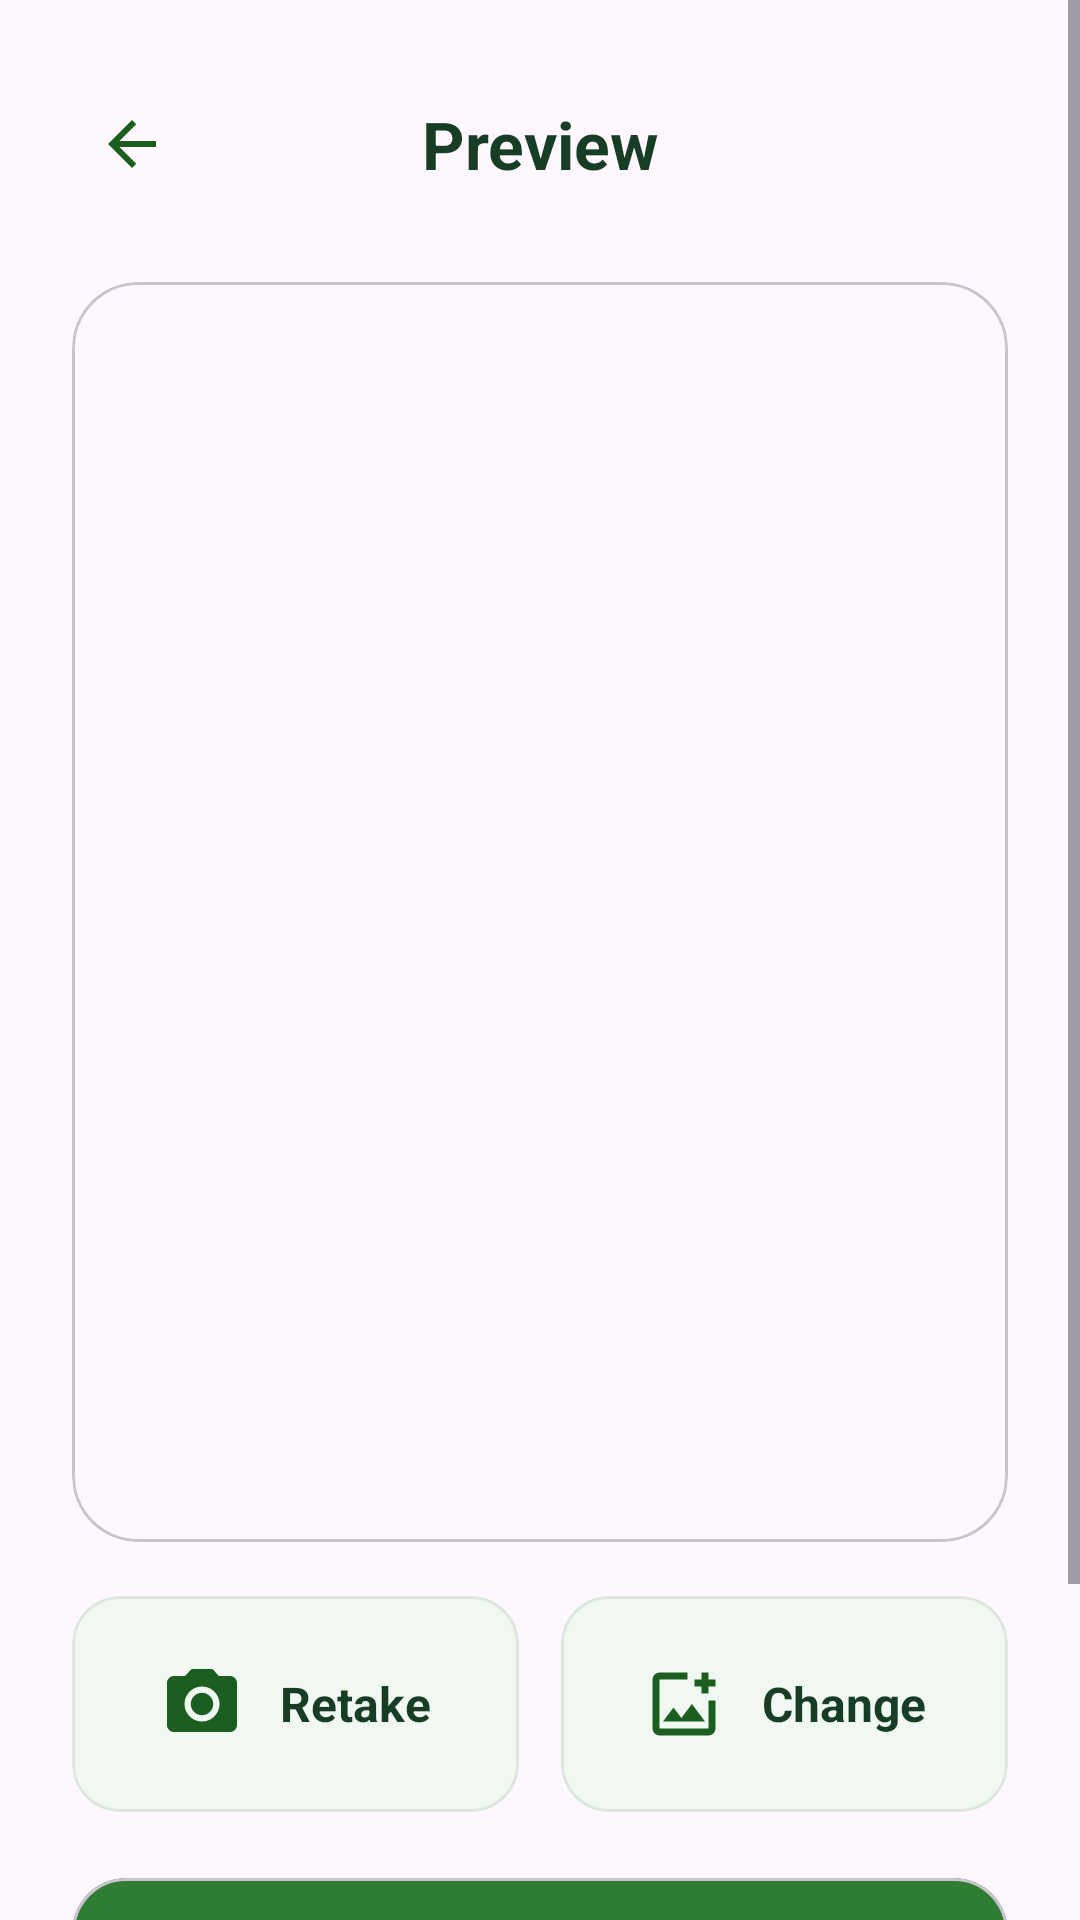

Named icons in this screenshot (1080px x 1920px) and their centers, point (x, y):
back: point (132, 144)
camera: point (202, 1700)
gallery: point (684, 1704)
